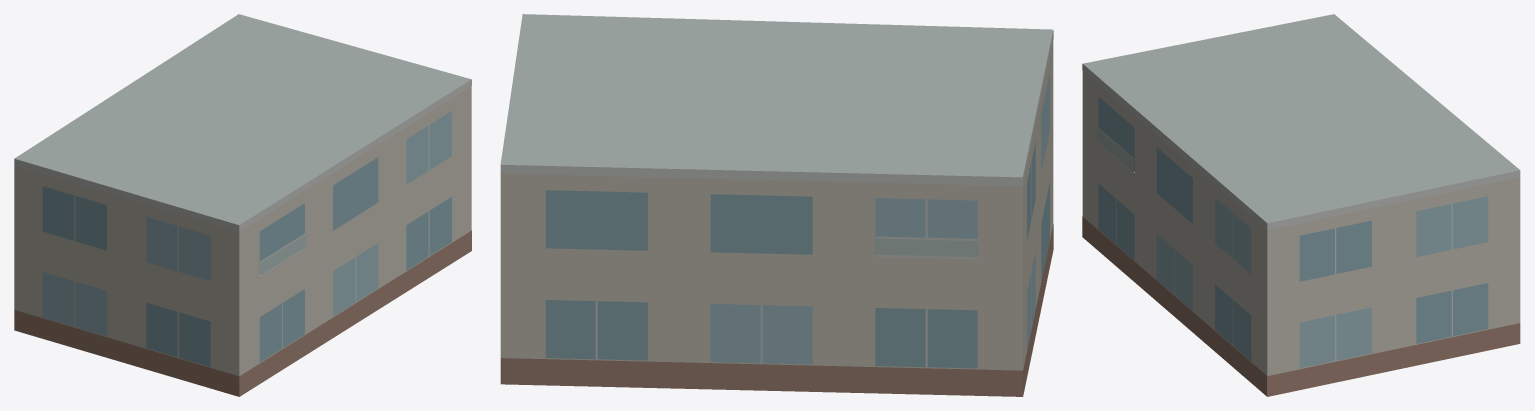
The model's file is survey-upis-32942071.glb.
3 views of the same model, side by side, from view 1: azimuth 30°, elevation 25°; view 2: azimuth 150°, elevation 25°; view 3: azimuth 270°, elevation 25° (orthographic). The views are drawn at different scales.
Visible parts, largest first — view 1: survey-upis-32942071.tmp; view 2: survey-upis-32942071.tmp; view 3: survey-upis-32942071.tmp.
Part boxes in pixels (<box>): survey-upis-32942071.tmp: <box>14,14,471,396</box>; survey-upis-32942071.tmp: <box>500,14,1053,396</box>; survey-upis-32942071.tmp: <box>1082,14,1520,396</box>.
Bounding box in the file's own units: 15.79 × 6.1 × 13.96.
